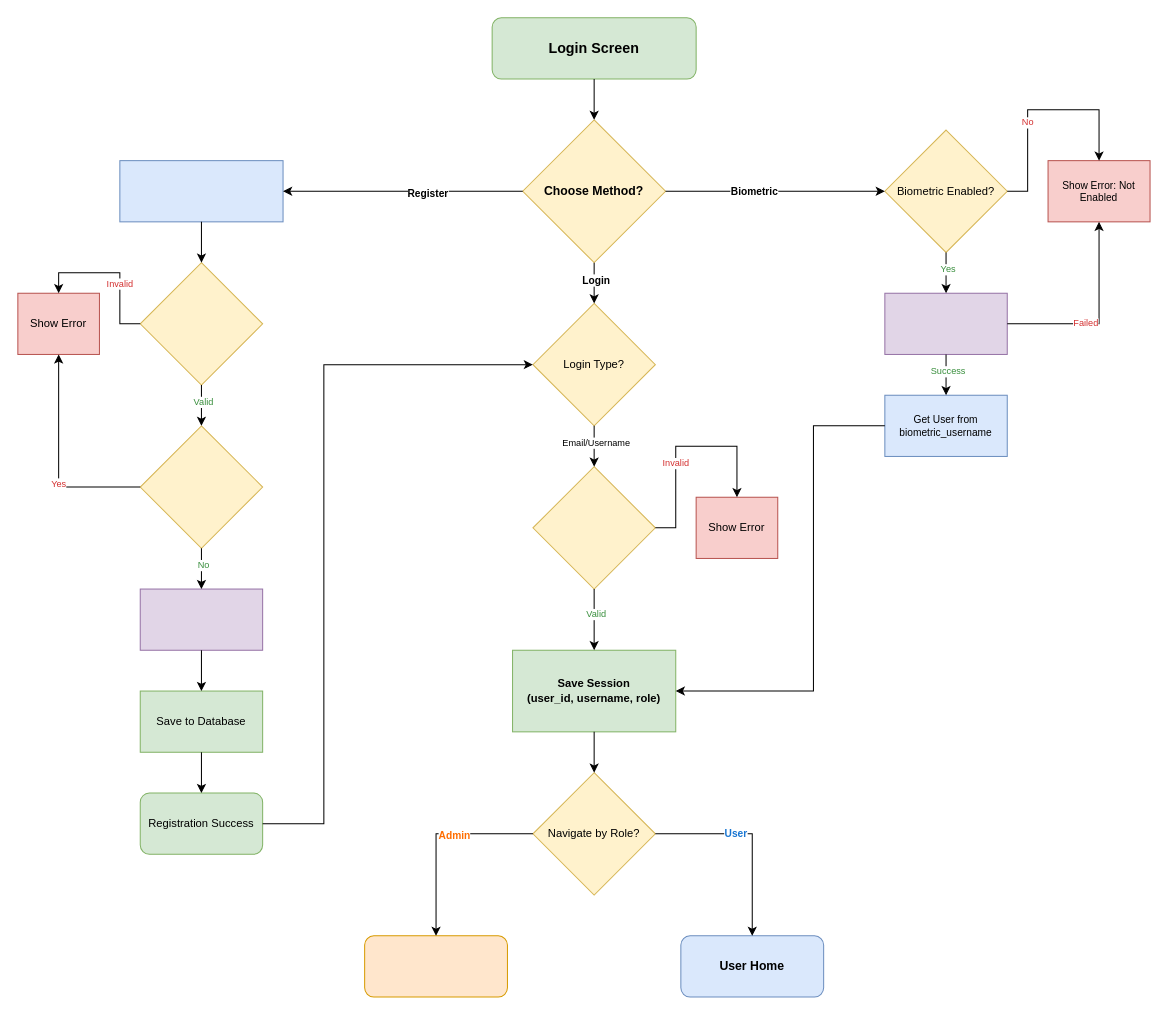
Some shapes in this 1168 by 1015 pixel diagram are drawn without their labels. Each missing label, with the centre of its shape:
"Admin Dashboard" belongs at (x=435, y=966).
"Hash Password (SHA-1)" belongs at (x=201, y=619).
"Register Screen" belongs at (x=201, y=191).
"Scan Fingerprint" belongs at (x=945, y=323).
"Username Exists?" belongs at (x=201, y=486).
"Validate Input?" belongs at (x=201, y=323).
"Verify Credentials?" belongs at (x=593, y=527).
